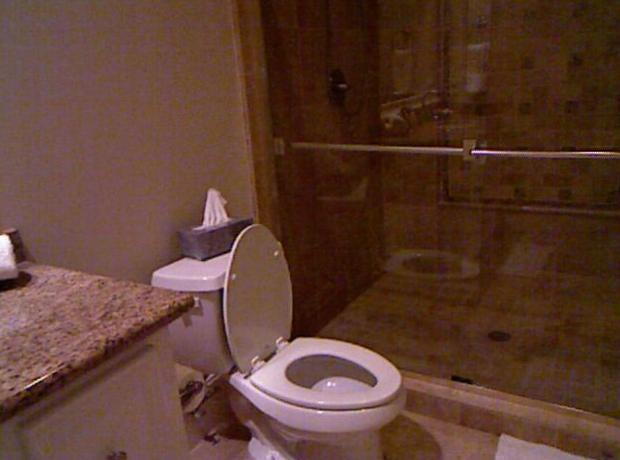Ducha: (250, 12, 609, 435)
Sanitario: (149, 228, 408, 456)
